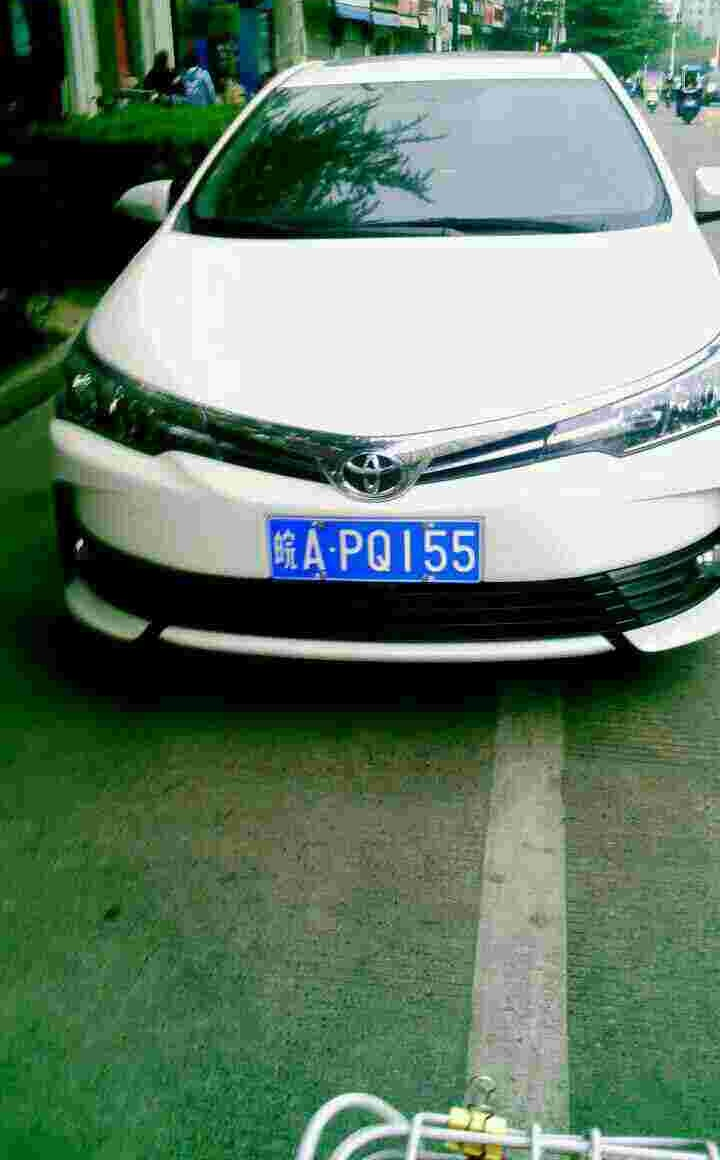license_plate: (267, 512, 478, 586)
